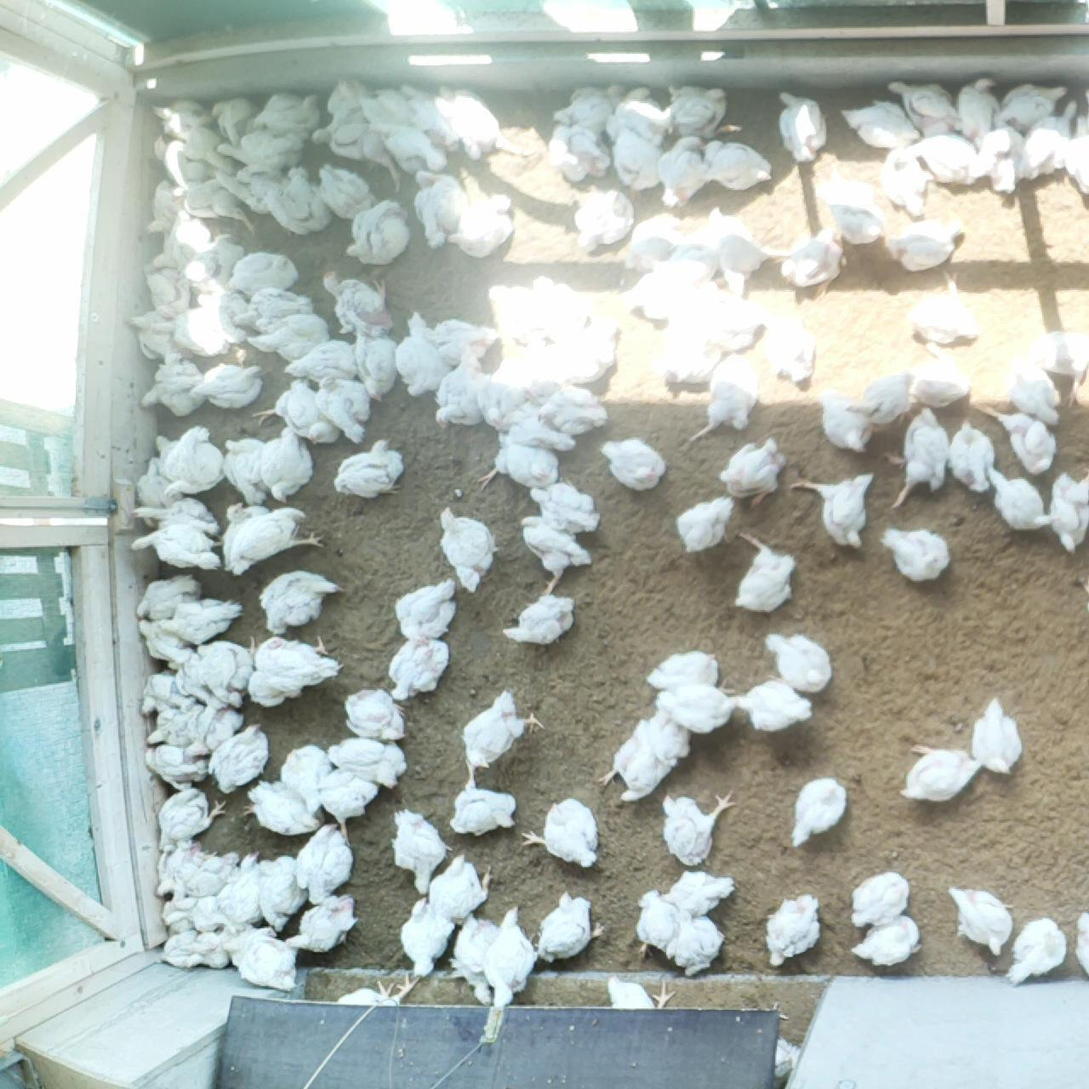chicken: (434, 77, 547, 160), (214, 494, 325, 578), (455, 685, 546, 787), (594, 709, 684, 805), (241, 627, 341, 710), (791, 472, 882, 562), (683, 356, 763, 458), (517, 791, 605, 880), (882, 400, 950, 512), (312, 115, 412, 191), (902, 266, 984, 358), (668, 275, 764, 349), (656, 781, 738, 867), (247, 371, 340, 446), (422, 348, 499, 437), (864, 131, 937, 224), (978, 396, 1062, 476), (724, 531, 802, 617), (891, 735, 984, 806), (447, 747, 517, 841), (516, 508, 593, 593), (812, 161, 887, 246), (610, 260, 711, 323), (684, 206, 773, 276), (945, 876, 1016, 962), (316, 264, 394, 342), (254, 569, 343, 637), (155, 777, 232, 855), (423, 847, 496, 929), (760, 621, 837, 698), (263, 161, 337, 241), (387, 802, 452, 893), (218, 923, 300, 995), (407, 162, 472, 252), (778, 770, 852, 849), (1013, 87, 1072, 185), (437, 502, 499, 594), (290, 814, 359, 896), (393, 889, 457, 977), (536, 889, 609, 966), (241, 771, 327, 836), (599, 117, 664, 203), (439, 186, 520, 255), (874, 521, 956, 589), (145, 424, 227, 492), (648, 678, 745, 735), (392, 304, 449, 401), (759, 889, 826, 971), (967, 690, 1026, 783), (345, 194, 419, 268), (207, 719, 272, 803), (486, 900, 534, 1013), (123, 351, 205, 417), (714, 439, 791, 508), (981, 464, 1052, 538), (278, 891, 364, 952), (1002, 913, 1070, 990), (314, 373, 382, 450), (665, 75, 745, 140), (573, 183, 639, 261), (1030, 323, 1089, 410), (872, 218, 967, 272), (777, 225, 845, 299), (151, 91, 227, 157), (319, 732, 413, 785), (342, 683, 412, 754), (478, 273, 550, 342), (389, 635, 461, 704), (251, 850, 310, 934), (320, 765, 386, 840), (541, 120, 613, 188), (499, 589, 579, 650), (695, 138, 776, 198), (246, 313, 334, 368), (395, 573, 462, 645), (335, 429, 408, 495), (474, 445, 572, 494), (886, 79, 962, 142), (184, 635, 258, 699), (718, 673, 809, 725), (453, 912, 502, 1008), (1004, 345, 1062, 426), (593, 437, 670, 498), (767, 307, 819, 397), (659, 134, 718, 213), (158, 595, 249, 646), (190, 360, 270, 418), (620, 210, 685, 281), (126, 527, 225, 573), (602, 83, 673, 147), (131, 567, 210, 624), (662, 907, 727, 976), (847, 915, 927, 971), (910, 336, 971, 409), (226, 283, 311, 335), (186, 229, 249, 299), (652, 325, 722, 388), (266, 422, 320, 503), (281, 732, 333, 815), (774, 87, 832, 161), (841, 368, 915, 426), (815, 386, 882, 450), (536, 382, 611, 439), (547, 323, 620, 381), (997, 77, 1071, 134), (536, 266, 594, 338), (526, 475, 603, 529), (838, 98, 921, 148), (674, 494, 739, 557), (154, 204, 221, 265), (368, 117, 447, 168), (151, 123, 215, 185), (153, 834, 210, 903), (352, 331, 403, 408), (179, 702, 248, 758), (848, 868, 911, 929), (663, 866, 739, 916), (132, 497, 222, 539), (219, 434, 271, 506), (432, 314, 499, 369), (551, 80, 626, 129), (629, 883, 677, 959), (232, 247, 303, 298), (503, 398, 574, 449), (975, 120, 1023, 194), (172, 297, 232, 356), (641, 643, 723, 686), (914, 131, 979, 185), (1049, 467, 1089, 554), (142, 249, 190, 319), (472, 371, 525, 434), (312, 163, 369, 221), (224, 852, 267, 928), (150, 899, 238, 936), (216, 127, 304, 164), (256, 84, 322, 133), (335, 969, 419, 1007), (202, 87, 257, 143), (135, 664, 199, 712), (604, 967, 676, 1009), (145, 741, 206, 789), (216, 161, 273, 211), (187, 852, 241, 904), (125, 304, 177, 358), (140, 172, 187, 231), (150, 705, 208, 751), (396, 82, 446, 135), (498, 341, 548, 392), (968, 72, 1002, 137), (156, 929, 214, 967), (1065, 104, 1089, 191), (325, 74, 367, 121), (134, 454, 179, 492), (192, 927, 230, 969), (1073, 905, 1089, 978)
